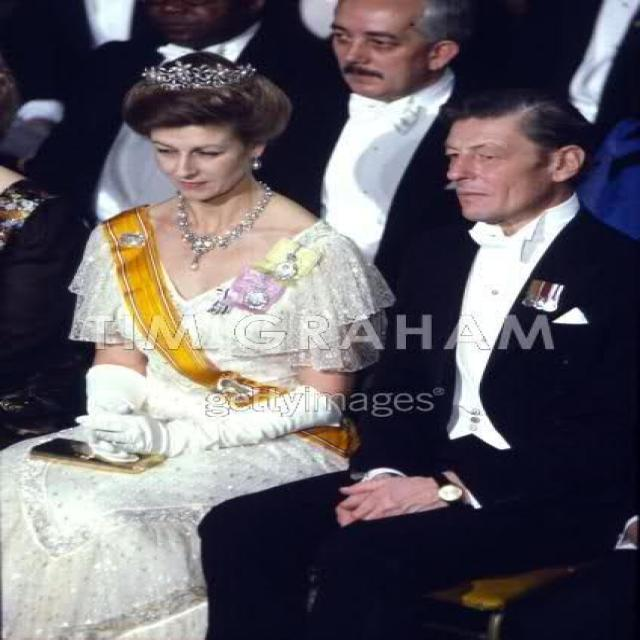Earring: (246, 150, 266, 182)
